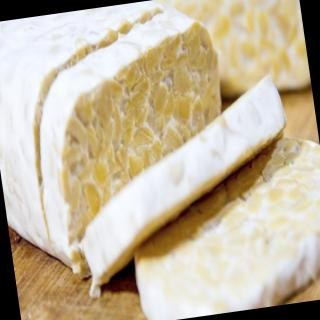Tempe: (58, 71, 309, 301), (119, 131, 320, 320), (159, 1, 311, 108)
